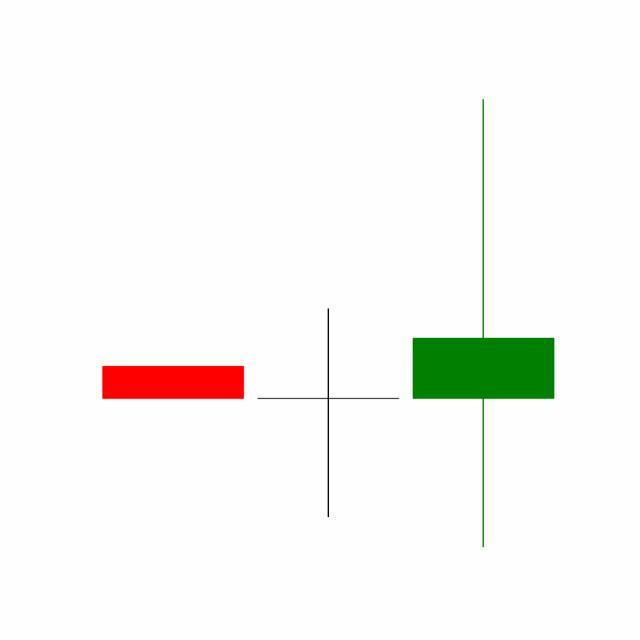Spinning Top: (250, 307, 407, 522)
